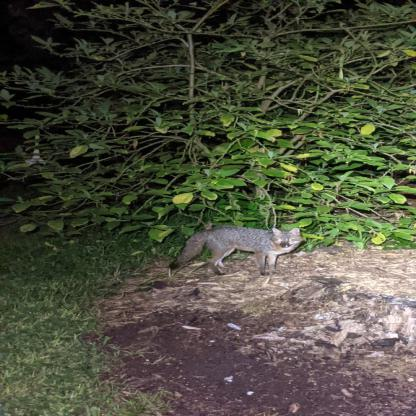zorro: (167, 221, 307, 281)
